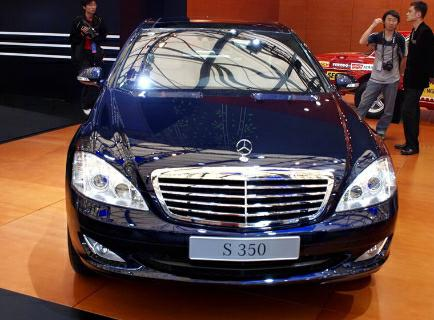奔驰-S级: (63, 21, 403, 295)
